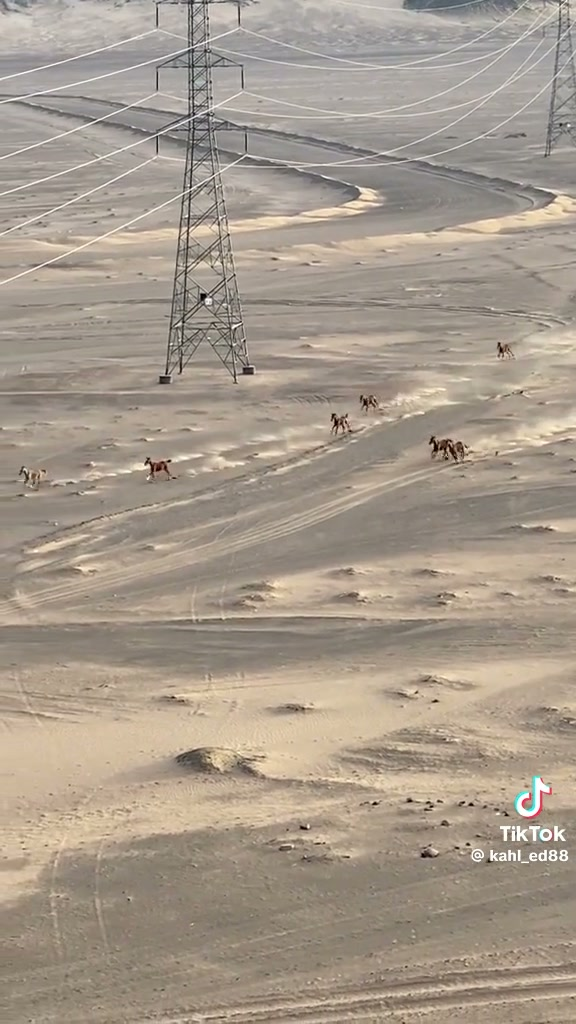animal: (144, 457, 172, 479), (18, 466, 45, 488), (429, 435, 453, 459), (331, 412, 351, 434), (451, 440, 470, 460), (359, 394, 378, 412), (498, 341, 514, 358)
vehicle_track: (23, 467, 436, 611), (154, 964, 575, 1023)
